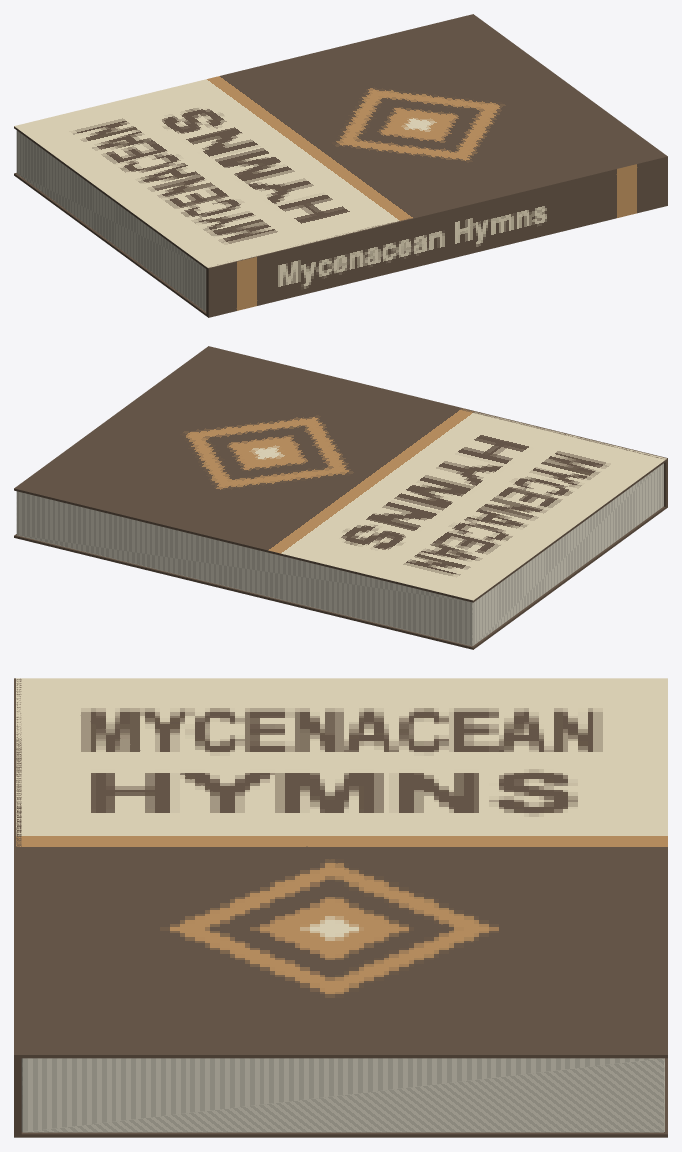
File: mycenacean_hymns.glb
3 renders of one model, top to bottom at view 1: azimuth 30°, elevation 25°; view 2: azimuth 150°, elevation 25°; view 3: azimuth 270°, elevation 25°, orthographic. The views are drawn at different scales.
Visible parts, largest first — view 1: block_front, block_spine, block_pages, block_back; view 2: block_front, block_pages, block_back, block_spine; view 3: block_front, block_pages, block_back, block_spine.
Boxes of the visible parts, x1,y1,x2,y2 form: block_front: [14, 14, 665, 269]; block_spine: [206, 155, 667, 317]; block_pages: [16, 130, 206, 311]; block_back: [14, 173, 207, 316]; block_front: [14, 346, 667, 602]; block_pages: [16, 463, 663, 646]; block_back: [14, 506, 667, 649]; block_spine: [207, 346, 667, 507]; block_front: [16, 678, 667, 1058]; block_pages: [21, 1058, 664, 1132]; block_back: [16, 1058, 667, 1137]; block_spine: [14, 678, 21, 1137].
Size of the model in its own units: 0.252 by 0.0259 by 0.1849.
1 material, 1 textured.
